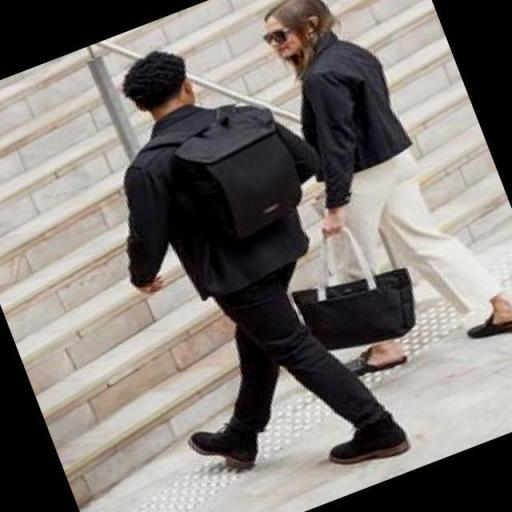bag: (149, 110, 311, 252), (287, 232, 435, 362)
